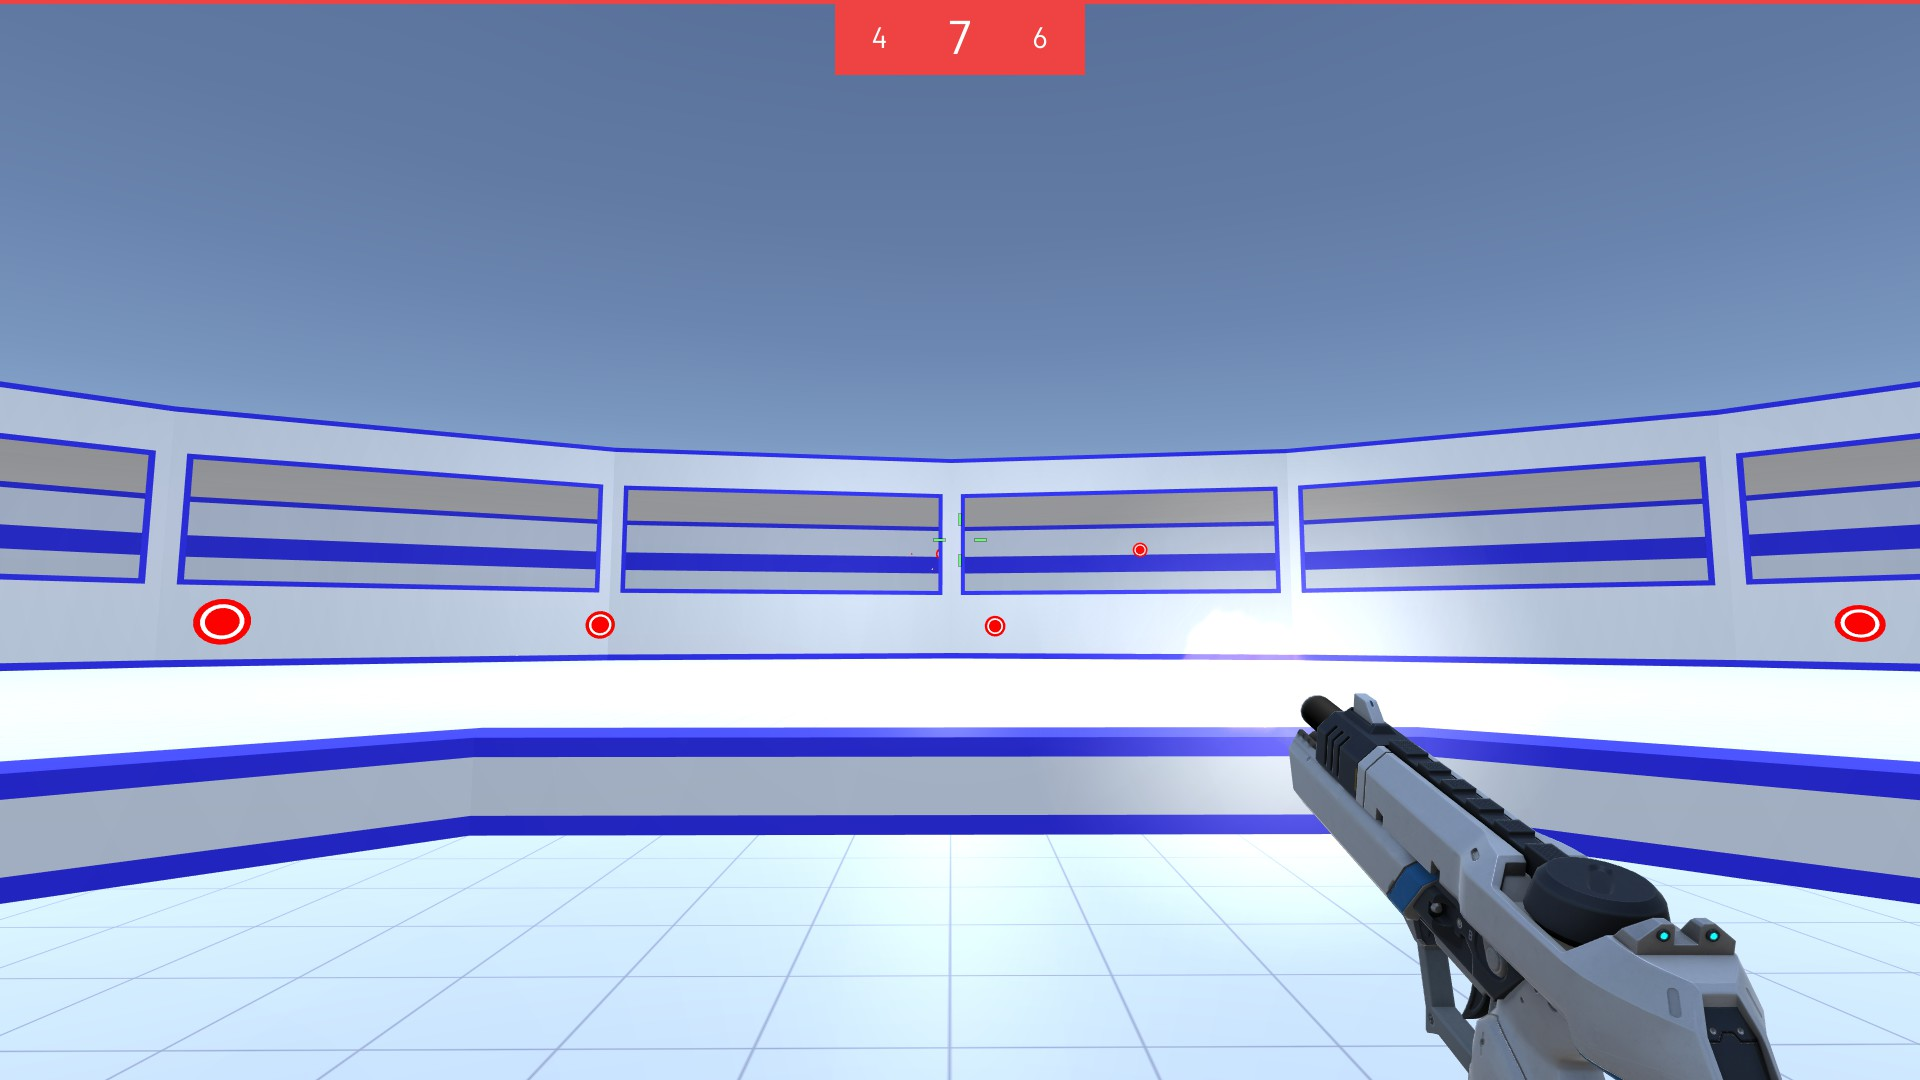target: (189, 599, 255, 647), (1833, 604, 1891, 644), (585, 611, 617, 640), (982, 615, 1006, 637), (1133, 542, 1151, 556)
